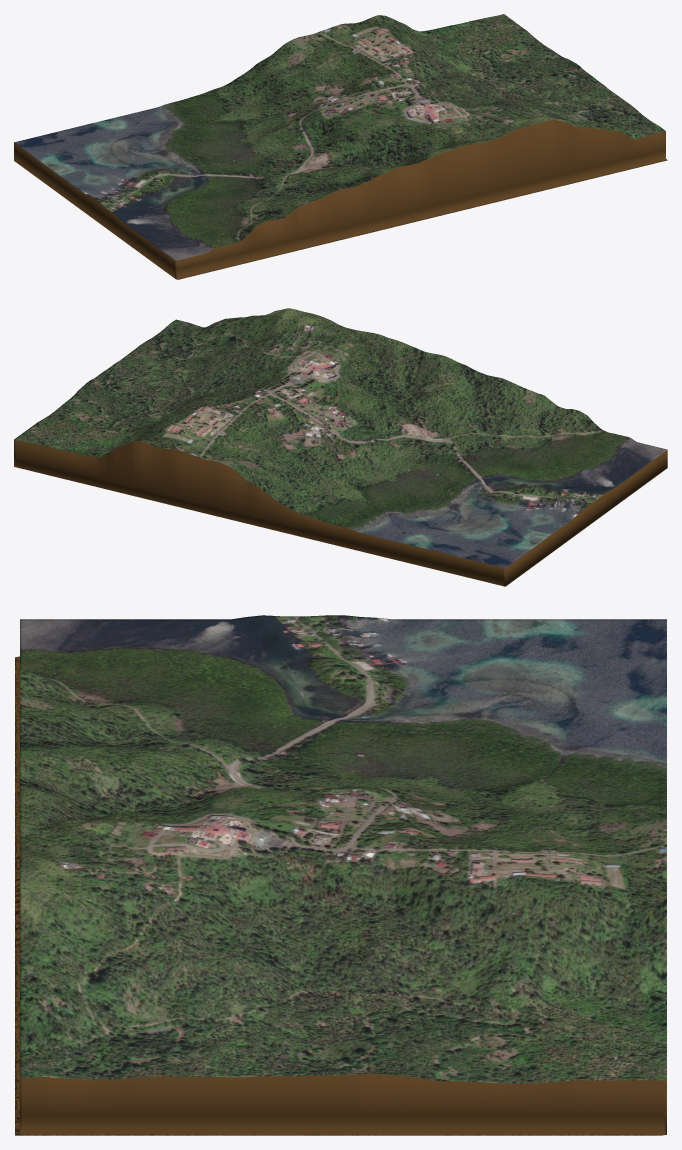
The picture shows the model from 3 angles, top to bottom: view 1: azimuth 30°, elevation 25°; view 2: azimuth 150°, elevation 25°; view 3: azimuth 270°, elevation 25°; orthographic projection. The views are drawn at different scales.
Parts seen in each view (by area): view 1: EXPORT_ESRI_AERIAL_WM; view 2: EXPORT_ESRI_AERIAL_WM; view 3: EXPORT_ESRI_AERIAL_WM.
Boxes of the visible parts, x1,y1,x2,y2 form: EXPORT_ESRI_AERIAL_WM: (14, 14, 667, 279); EXPORT_ESRI_AERIAL_WM: (14, 308, 667, 586); EXPORT_ESRI_AERIAL_WM: (15, 615, 666, 1135).
Bounding box in the file's own units: 2144 × 283 × 1233.
2 materials, 1 textured.
